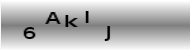6: (22, 25, 36, 39)
A: (43, 11, 61, 25)
J: (102, 25, 111, 41)
k: (64, 13, 79, 27)
l: (84, 9, 90, 24)
